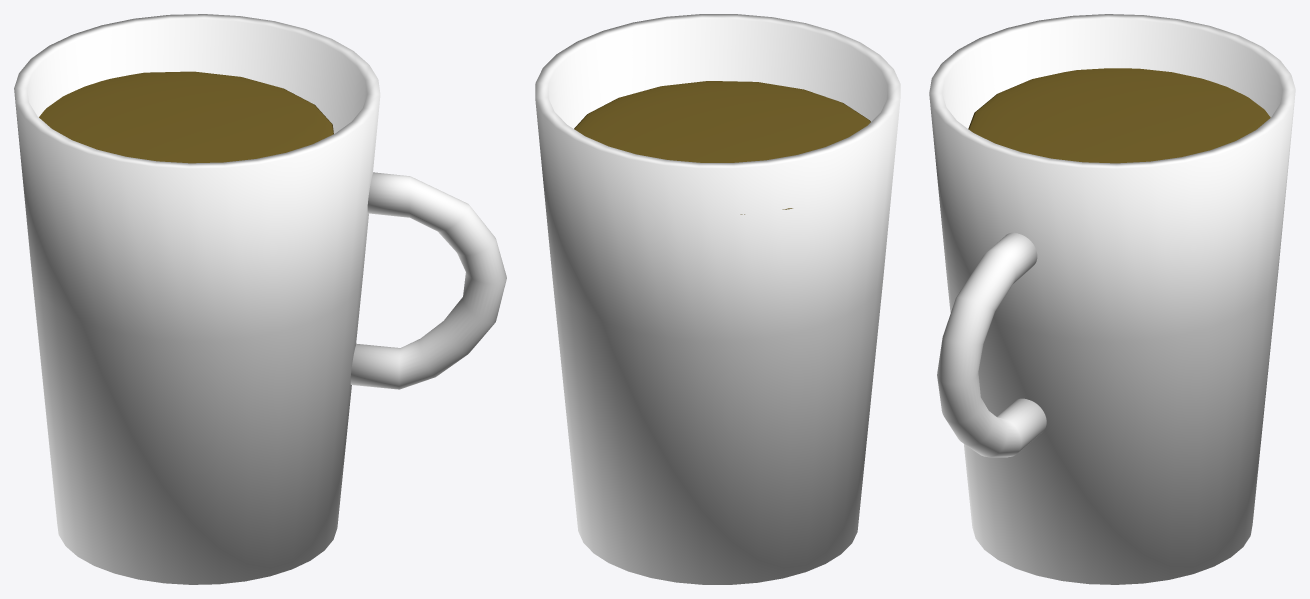
Rendered from cafe.obj.
The picture shows the model from 3 angles, left to right: view 1: azimuth 30°, elevation 25°; view 2: azimuth 150°, elevation 25°; view 3: azimuth 270°, elevation 25°; orthographic projection.
Visible parts, largest first — view 1: taza5:Mesh1; view 2: taza5:Mesh1; view 3: taza5:Mesh1.
Part boxes in pixels (left/top/right/bottom): taza5:Mesh1: left=14, top=14, right=506, bottom=584; taza5:Mesh1: left=535, top=14, right=900, bottom=584; taza5:Mesh1: left=929, top=14, right=1295, bottom=584.
Size of the model in its own units: 0.1536 by 0.1679 by 0.1256.
2 materials, 2 textured.
